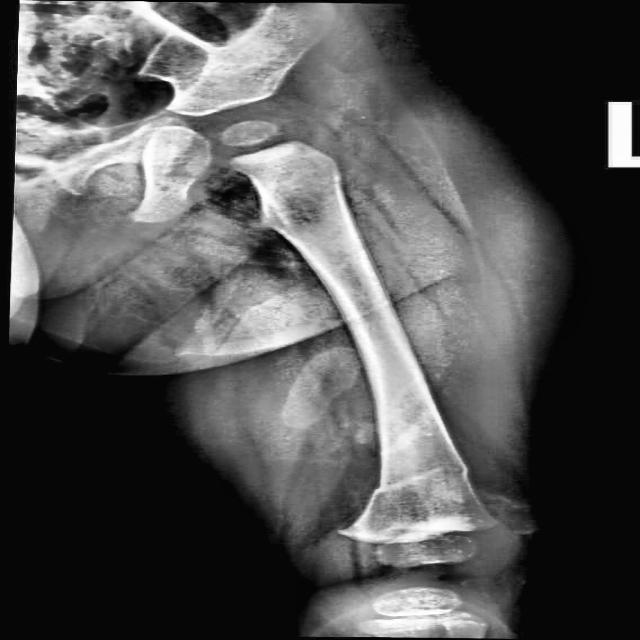line: (374, 467, 444, 492)
